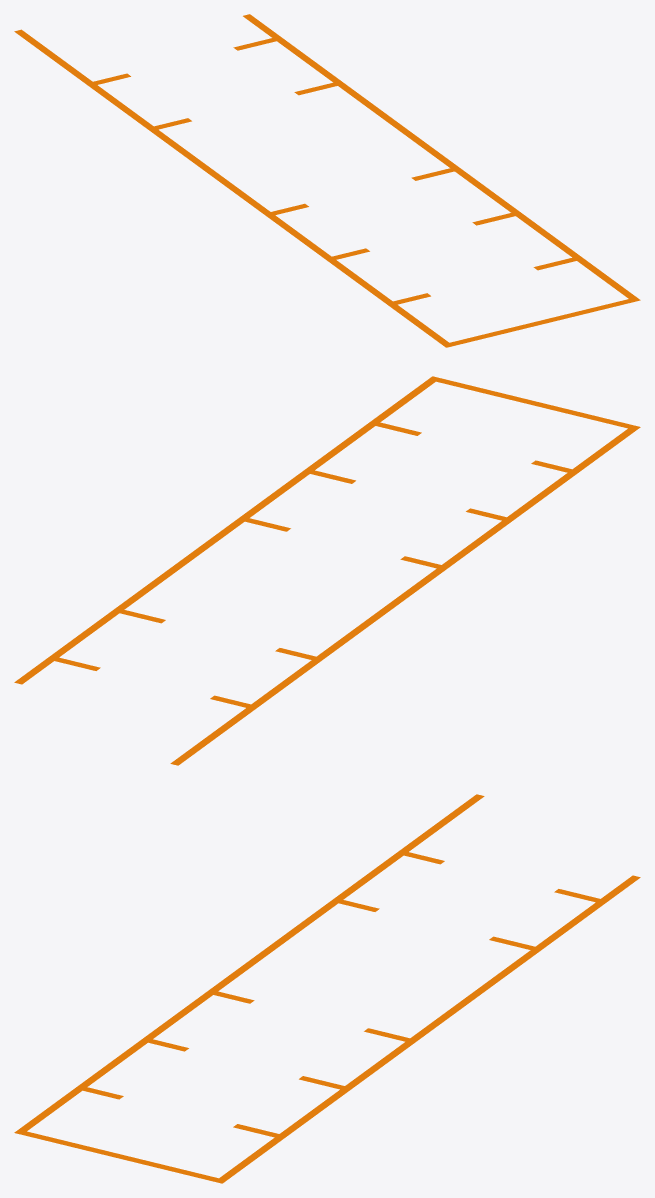
File: DemoPath1.glb
3 renders of one model, top to bottom at view 1: azimuth 30°, elevation 25°; view 2: azimuth 150°, elevation 25°; view 3: azimuth 330°, elevation 25°, orthographic. The views are drawn at different scales.
Visible parts, largest first — view 1: DemoPath1; view 2: DemoPath1; view 3: DemoPath1.
Part boxes in pixels (x1,y1,x2,y2): DemoPath1: (14,14,640,347); DemoPath1: (14,376,640,765); DemoPath1: (14,794,640,1183).
Bounding box in the file's own units: 10.12 × 0 × 38.91.
